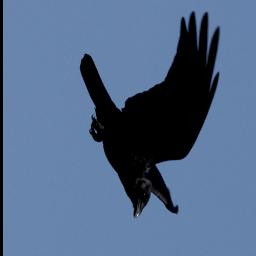Crow: (70, 4, 225, 226)
